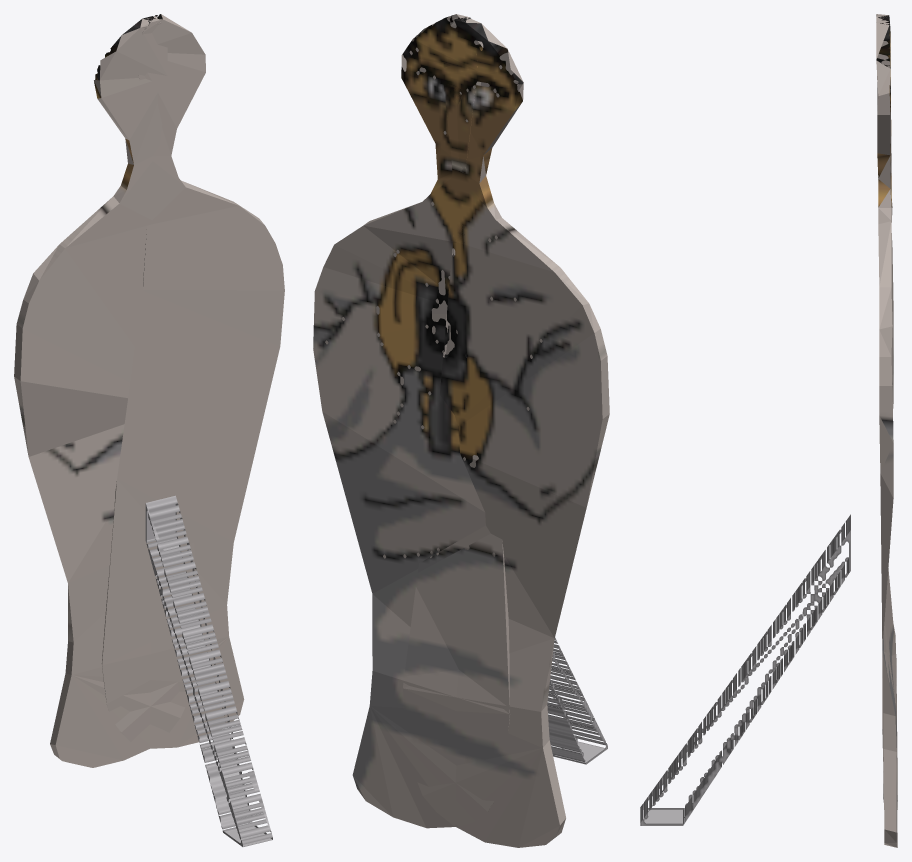
The model's file is Fakeguy.glb.
3 views of the same model, side by side, from view 1: azimuth 30°, elevation 25°; view 2: azimuth 150°, elevation 25°; view 3: azimuth 270°, elevation 25° (orthographic). The views are drawn at different scales.
Visible parts, largest first — view 1: Fakeguy; view 2: Fakeguy; view 3: Fakeguy.
Part boxes in pixels (x1,y1,x2,y2): Fakeguy: (14,14,284,846); Fakeguy: (313,14,609,847); Fakeguy: (640,14,897,847).
Bounding box in the file's own units: 77.17 × 207 × 60.53.
1 material, 1 textured.
